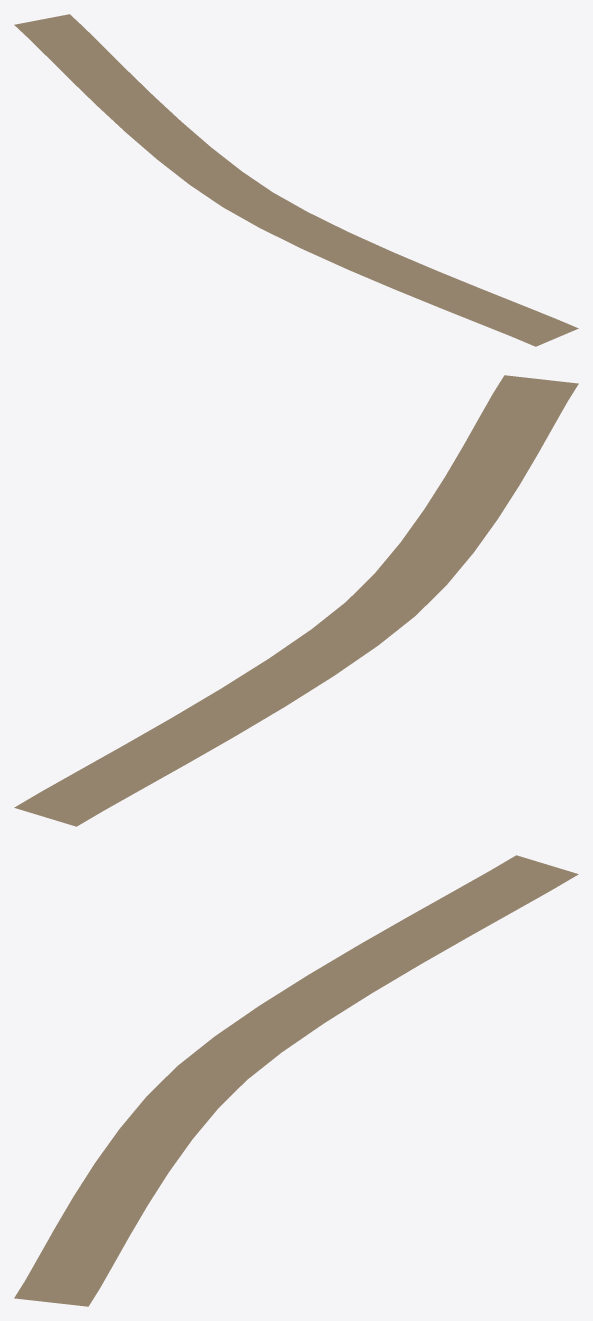
File: Road_Side.fbx
The picture shows the model from 3 angles, top to bottom: view 1: azimuth 30°, elevation 25°; view 2: azimuth 150°, elevation 25°; view 3: azimuth 330°, elevation 25°; orthographic projection. The views are drawn at different scales.
Visible parts, largest first — view 1: Road_Side; view 2: Road_Side; view 3: Road_Side.
Boxes of the visible parts, <box> form: Road_Side: <box>14,14,578,346</box>; Road_Side: <box>14,375,578,826</box>; Road_Side: <box>14,855,578,1306</box>.
Size of the model in its own units: 9.56 by 52.63 by 0.
